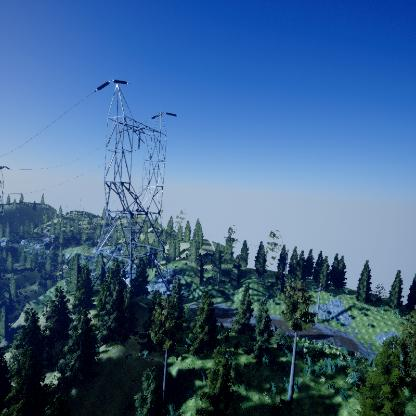tower: (92, 78, 177, 304)
